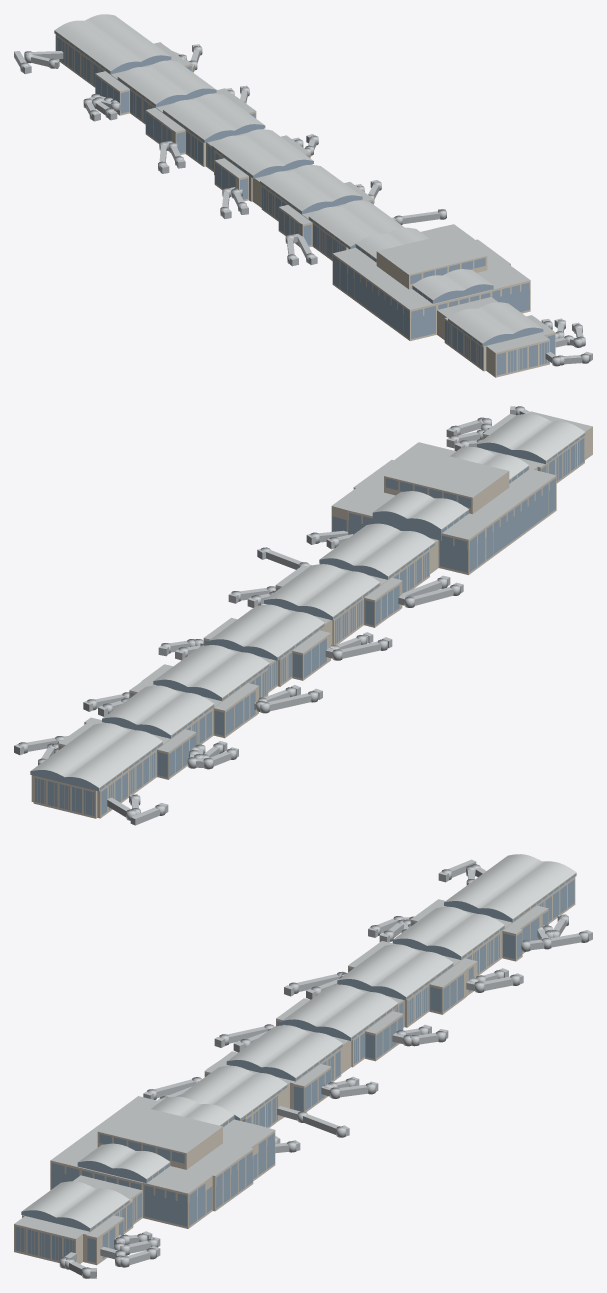
The model's file is la-lax-west-gates.detail.glb.
3 views of the same model, one above another, from view 1: azimuth 30°, elevation 25°; view 2: azimuth 150°, elevation 25°; view 3: azimuth 330°, elevation 25° (orthographic). The views are drawn at different scales.
Parts seen in each view (by area): view 1: LAX West Gates; view 2: LAX West Gates; view 3: LAX West Gates.
Part boxes in pixels (x1=…): LAX West Gates: x1=14, y1=14, x2=592, y2=377; LAX West Gates: x1=14, y1=406, x2=592, y2=825; LAX West Gates: x1=14, y1=854, x2=592, y2=1278.
Size of the model in its own units: 114 by 29.1 by 526.
